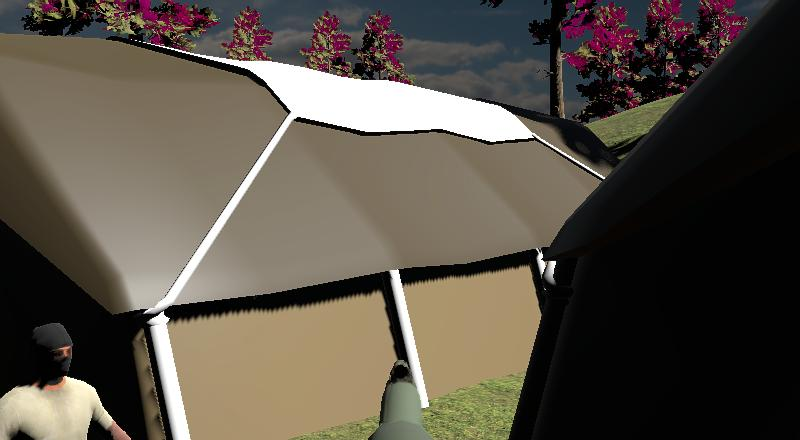Human: (0, 329, 171, 440)
